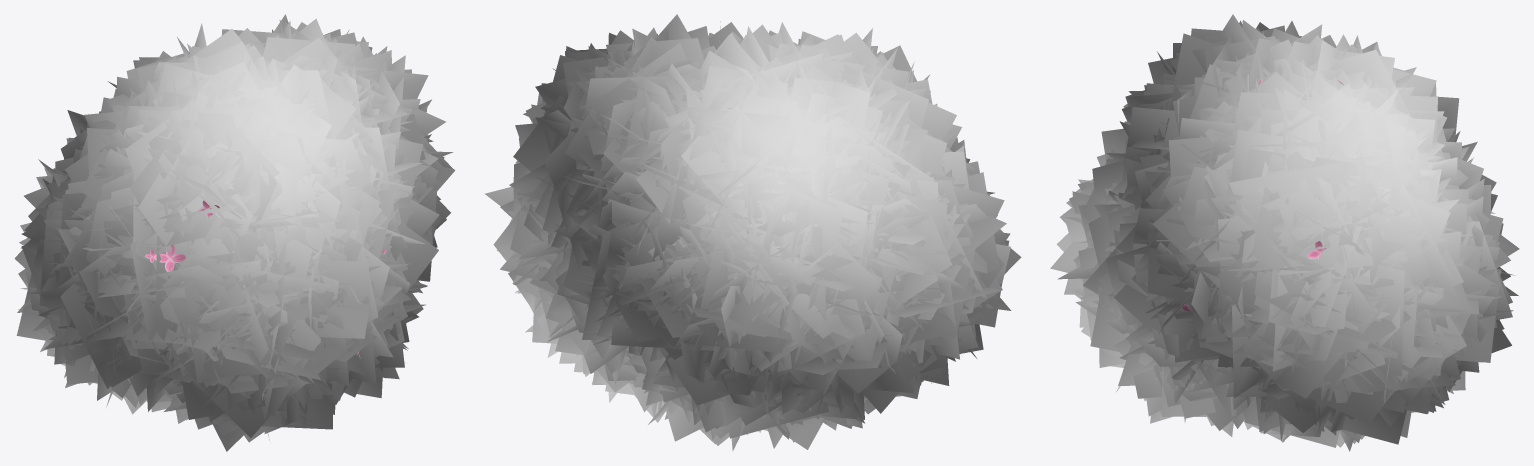
The model's file is Bush.fbx.
3 views of the same model, side by side, from view 1: azimuth 30°, elevation 25°; view 2: azimuth 150°, elevation 25°; view 3: azimuth 270°, elevation 25° (orthographic). The views are drawn at different scales.
Parts seen in each view (by area): view 1: Plane.003; view 2: Plane.003; view 3: Plane.003.
Boxes of the visible parts, x1=… form: Plane.003: x1=14, y1=14, x2=455, y2=451; Plane.003: x1=484, y1=14, x2=1021, y2=451; Plane.003: x1=1050, y1=14, x2=1519, y2=451.
Bounding box in the file's own units: 288 × 231 × 254.
